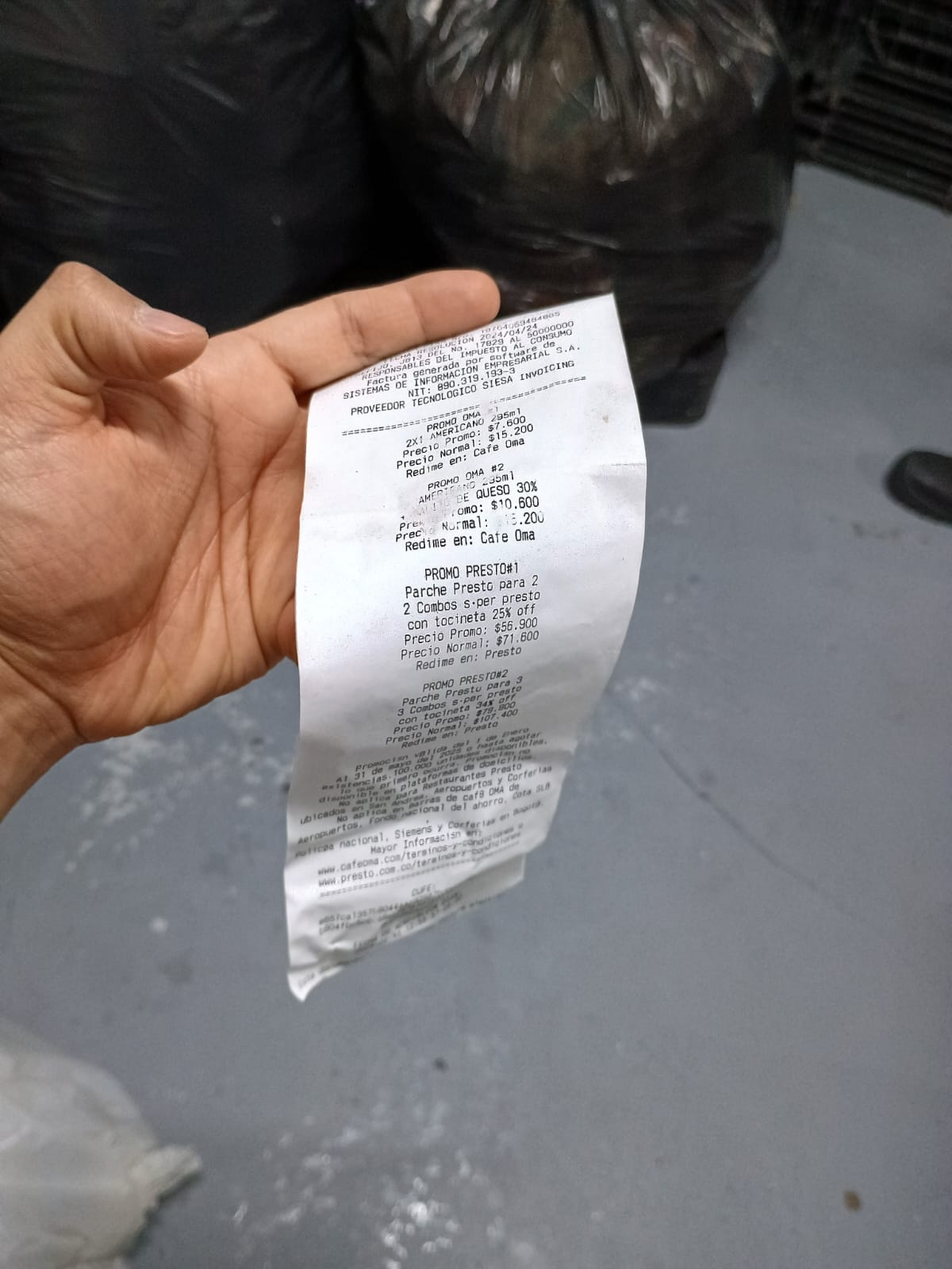Papel: (285, 294, 651, 1005)
